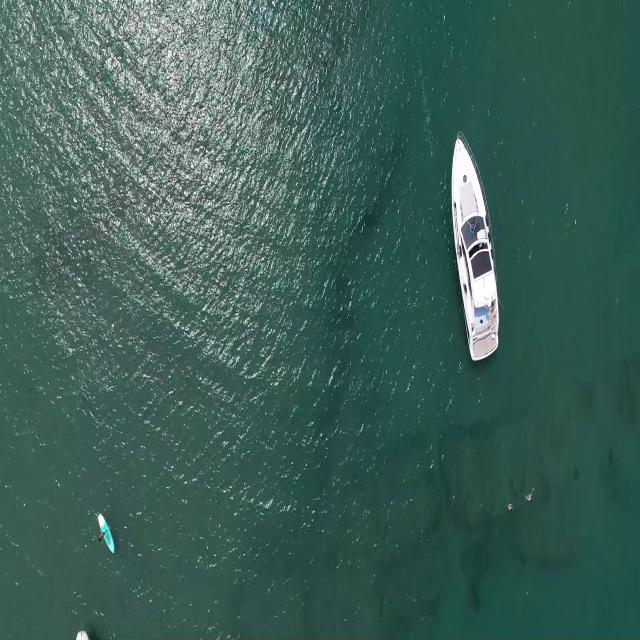boat: (448, 128, 502, 366)
person: (523, 488, 536, 502), (97, 527, 108, 542), (506, 501, 514, 511)
surfboard: (98, 509, 115, 559)
